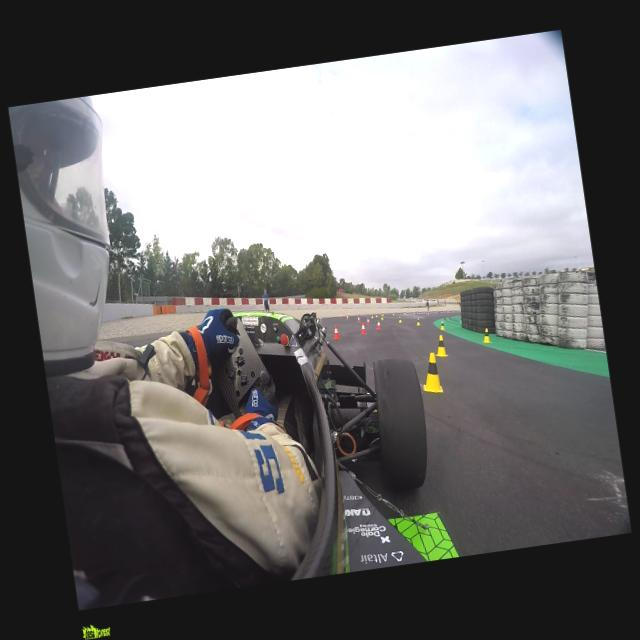orange_cone: (330, 324, 341, 342), (358, 322, 366, 336), (374, 321, 382, 331), (365, 318, 370, 326), (356, 316, 361, 323), (346, 314, 349, 320), (339, 314, 342, 319)
yellow_cone: (418, 352, 444, 396), (432, 334, 448, 359), (479, 327, 492, 345), (439, 320, 445, 330), (414, 318, 420, 326), (398, 316, 402, 324), (371, 313, 374, 319), (380, 314, 383, 320)
